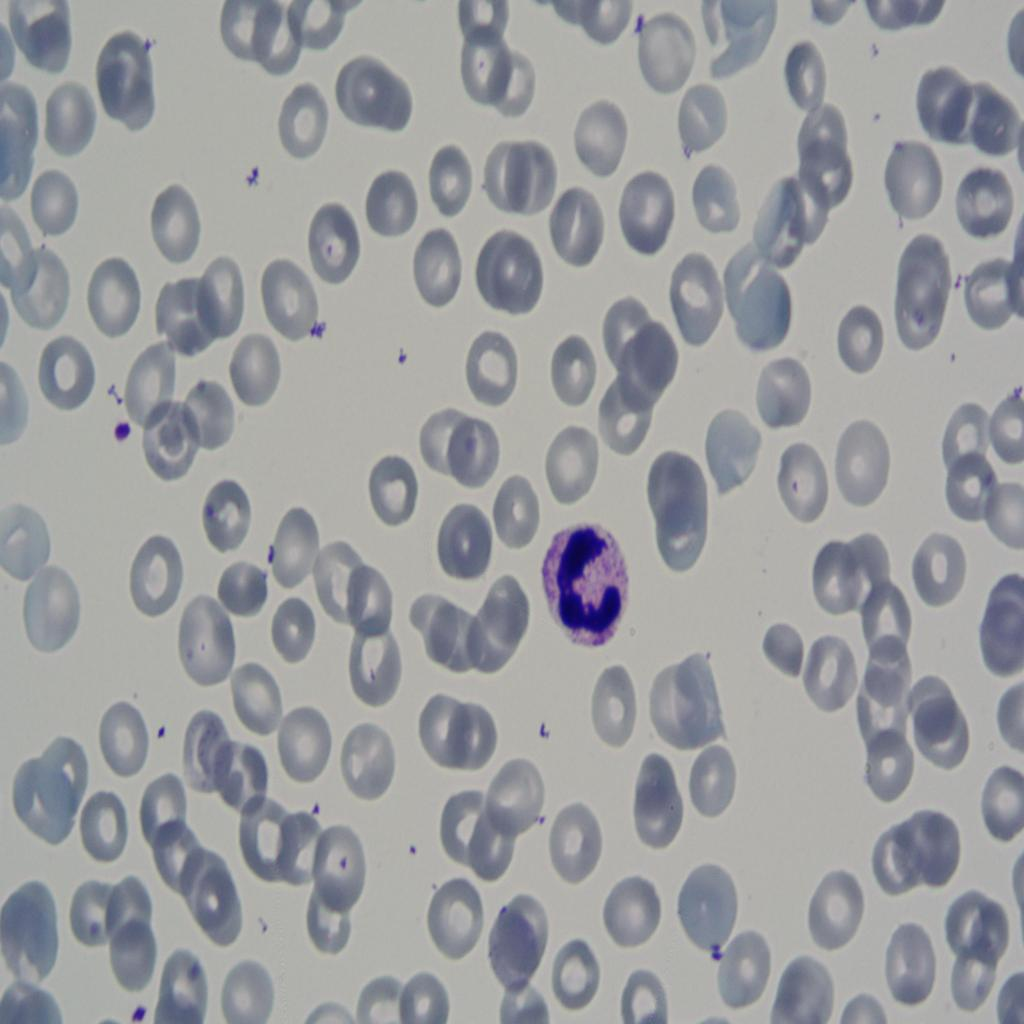Neutrofil: (528, 496, 640, 670)
Platelet: (104, 407, 143, 450), (629, 9, 656, 50), (125, 986, 148, 1024)
